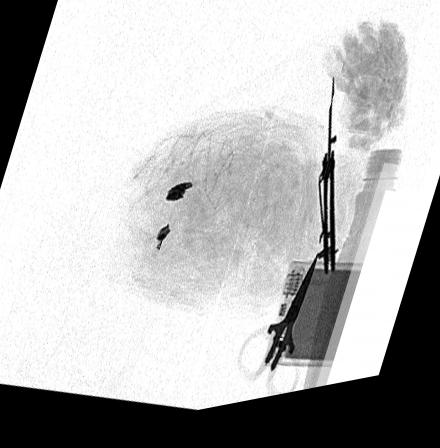Knife: (312, 78, 338, 288)
Powerbank: (262, 271, 365, 379)
Scissors: (235, 253, 321, 407)
